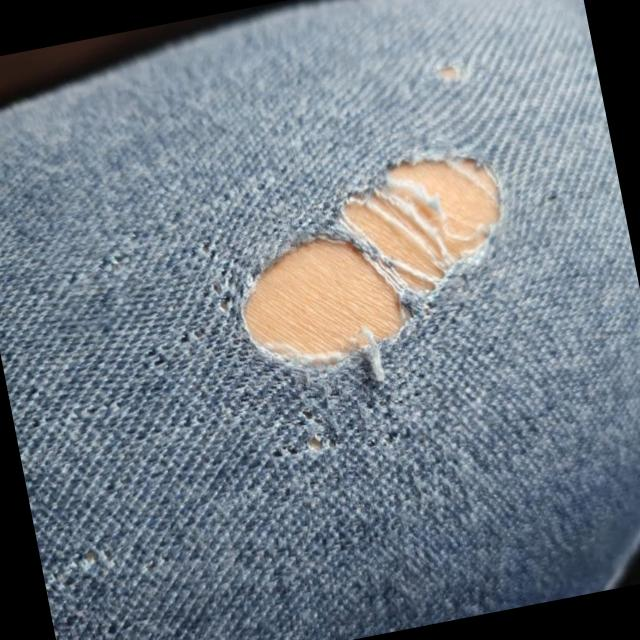cut: (214, 130, 536, 403)
